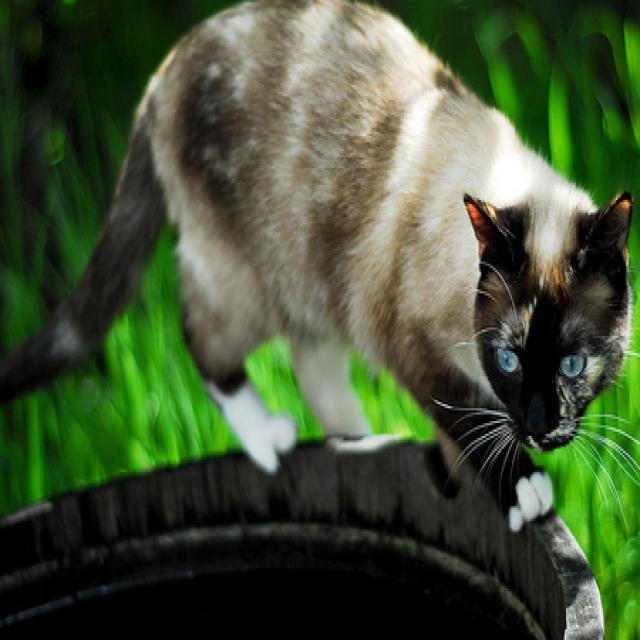Siamese: (0, 0, 637, 536)
